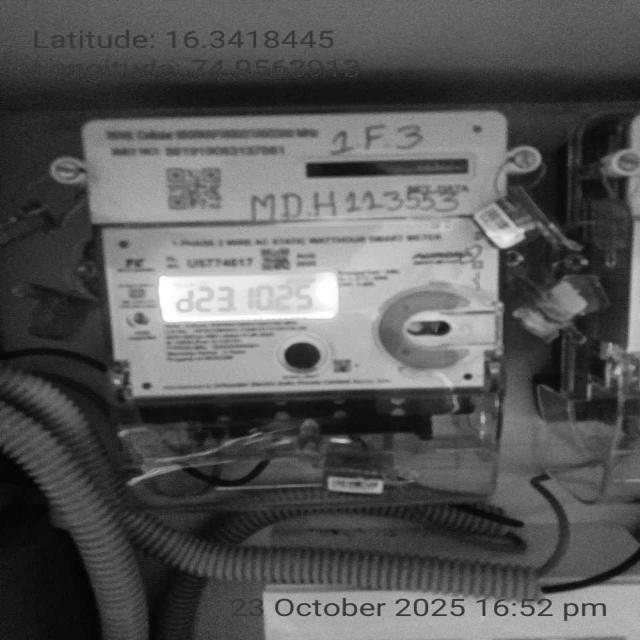meter: (82, 112, 498, 391)
